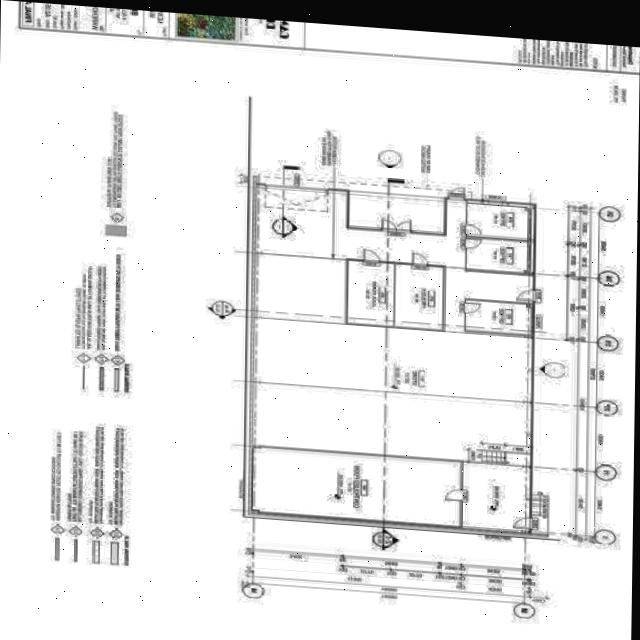room: (250, 188, 533, 532), (332, 158, 546, 375), (248, 447, 464, 528), (346, 195, 446, 234), (395, 264, 443, 330), (347, 261, 394, 327), (465, 237, 531, 274), (464, 300, 533, 335), (465, 204, 532, 240)
